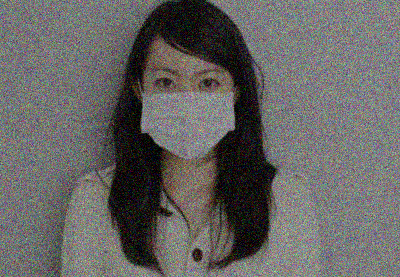with_mask: (140, 67, 234, 160)
